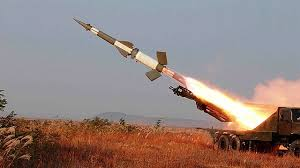ten_lua: (71, 15, 194, 90)
